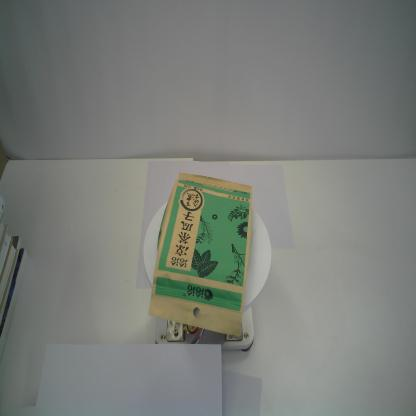Dried Food: (148, 170, 254, 337)
